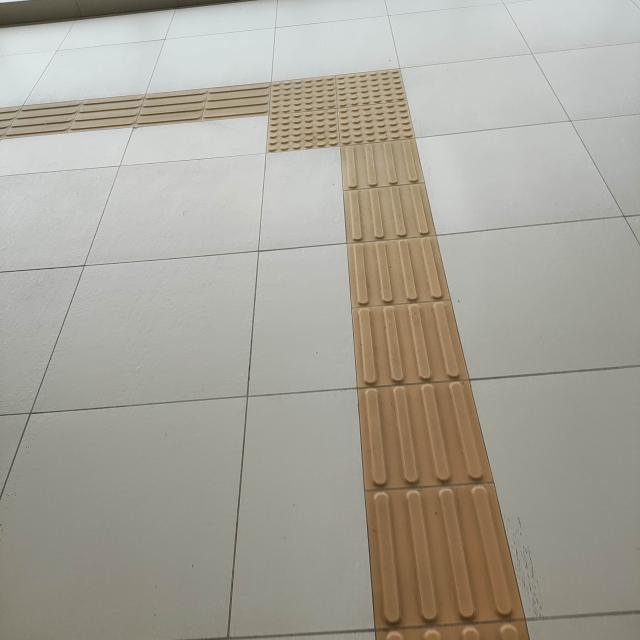kiri: (123, 46, 470, 213)
